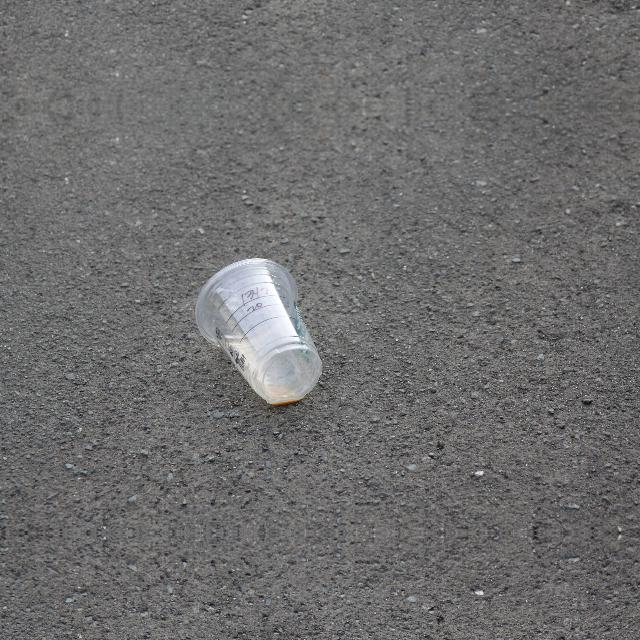Plastic: (193, 255, 324, 408)
